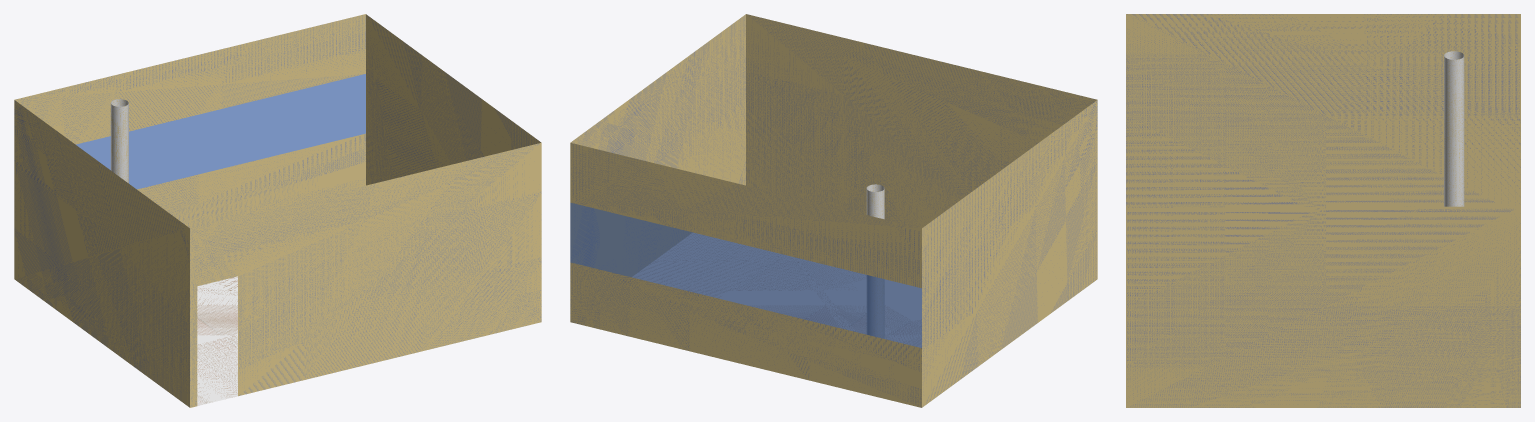
The model's file is LAB012.obj.
3 renders of one model, left to right at view 1: azimuth 30°, elevation 25°; view 2: azimuth 150°, elevation 25°; view 3: azimuth 270°, elevation 25°, orthographic. The views are drawn at different scales.
Parts seen in each view (by area): view 1: Mesh1 LAB012 Model; view 2: Mesh1 LAB012 Model; view 3: Mesh1 LAB012 Model.
Part boxes in pixels (left/top/right/bottom): Mesh1 LAB012 Model: left=14, top=14, right=541, bottom=407; Mesh1 LAB012 Model: left=570, top=14, right=1097, bottom=407; Mesh1 LAB012 Model: left=1126, top=14, right=1520, bottom=407.
Size of the model in its own units: 6.14 by 3 by 5.32.
5 materials, 1 textured.
